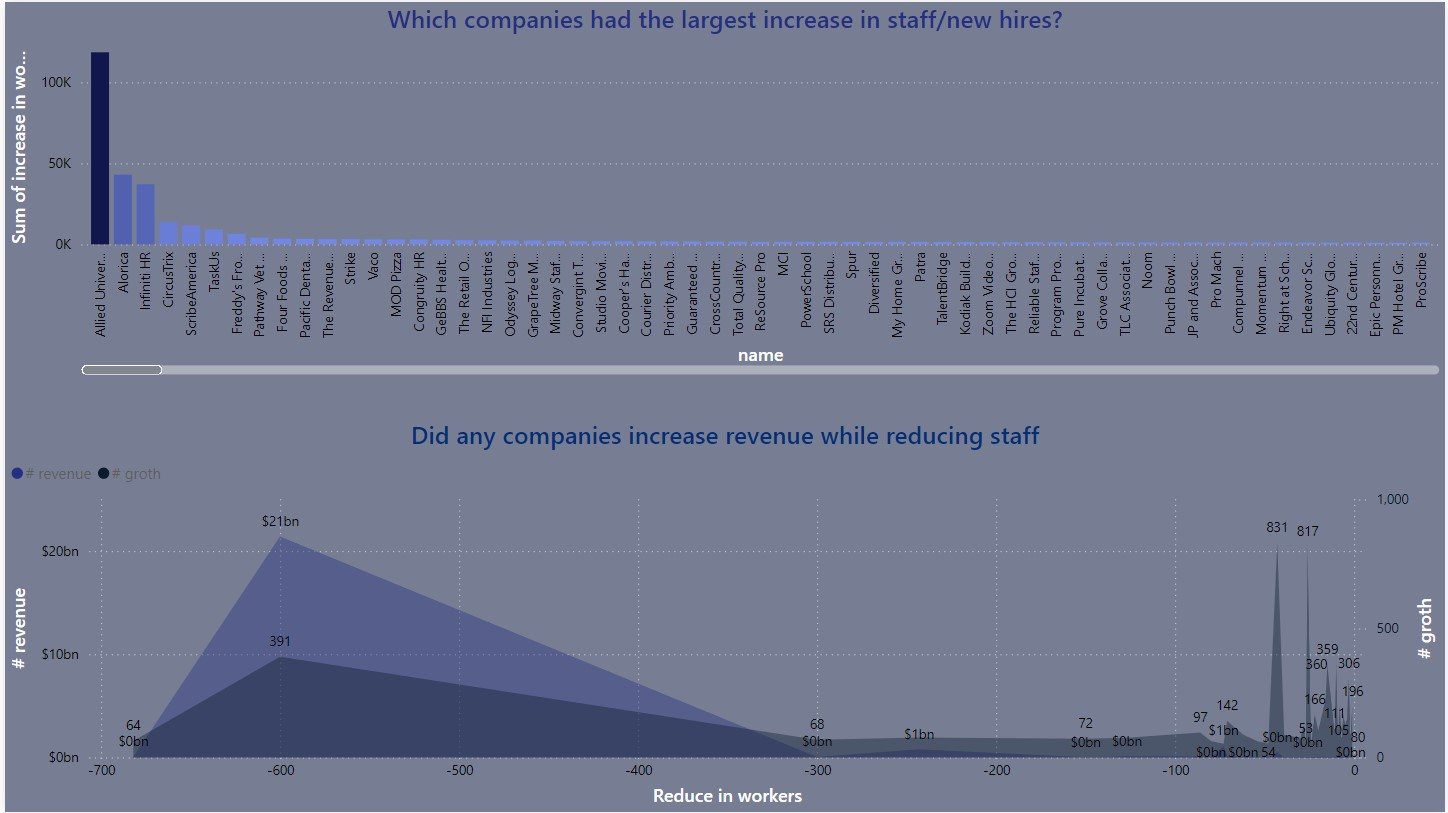

The page's visual inventory and layout, read from the dashboard file:
{"tool":"powerbi","page":{"name":"increase in staff","canvas":[1280,720],"ordinal":1},"visuals":[{"type":"columnChart","title":"Which companies had the largest increase in staff/new hires?","fields":{"Category":["_my data.name"],"Y":["Sum(_my data.increase in workers)"]},"box":[0,0,1280,336.2],"z":0},{"type":"lineChart","title":"Did any companies increase revenue while reducing staff","fields":{"Y":["_measures Dax.# revenue"],"Category":["_my data.increase in workers"],"Y2":["_measures Dax.# groth"]},"box":[0,370,1280,350],"z":1000}]}

Visuals, with their boxes in screenshot pixels (x1, y1, x2, y2), scaled from the page's 1280x720 canvas onto the 1448x813 screenshot:
"Which companies had the largest increase in staff/new hires?" columnChart: 0, 0, 1447, 380
"Did any companies increase revenue while reducing staff" lineChart: 0, 418, 1447, 812
